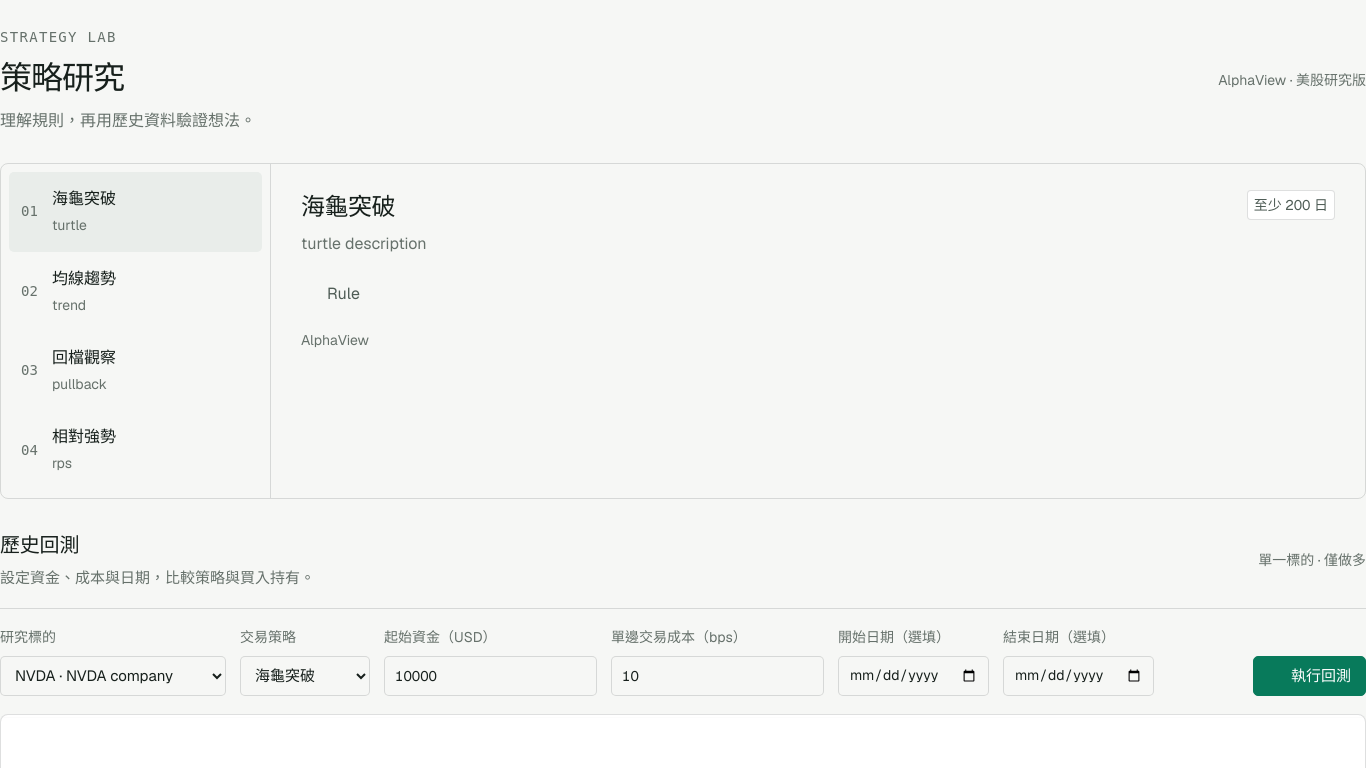
Test: backtest parameters and diagnostics › blocks invalid capital, costs and reversed dates
Step 1. Replace the text in the number field labelled "起始資金（USD）" with "0" → (490, 676), box [384, 656, 597, 696]
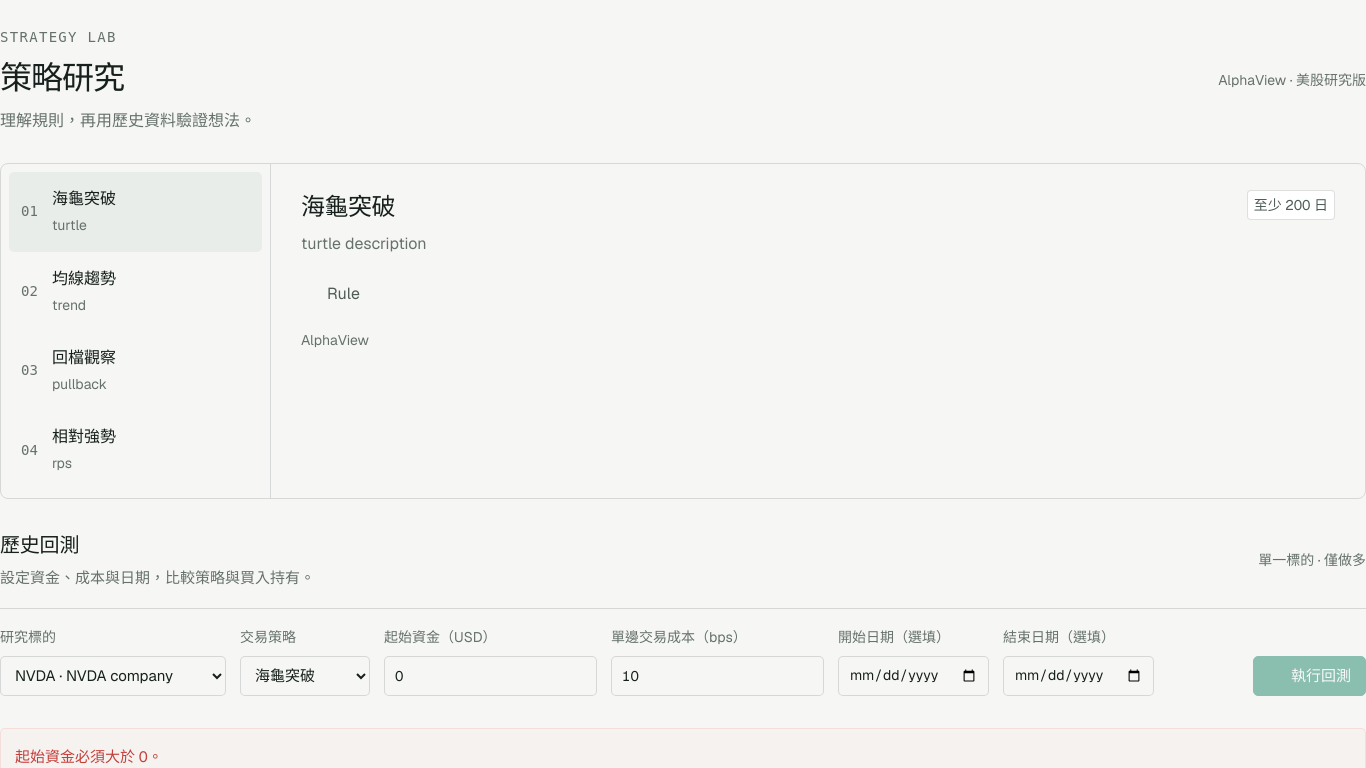
Expected: the message reads "起始資金必須大於 0。", [15, 747, 163, 766]
Step 2. Replace the text in the number field labelled "起始資金（USD）" with "10000" → (490, 676), box [384, 656, 597, 696]
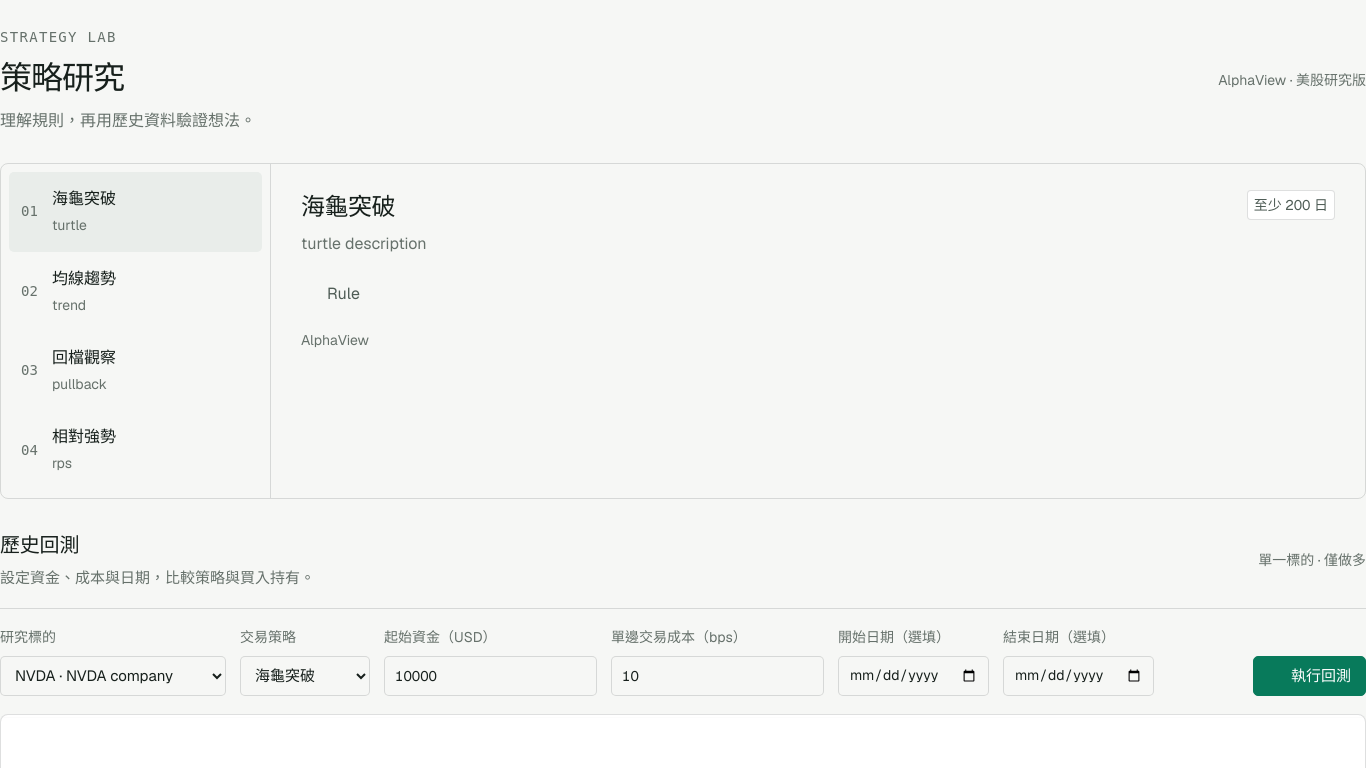
Step 3. Replace the text in the number field labelled "單邊交易成本（bps）" with "101" → (718, 676), box [611, 656, 824, 696]
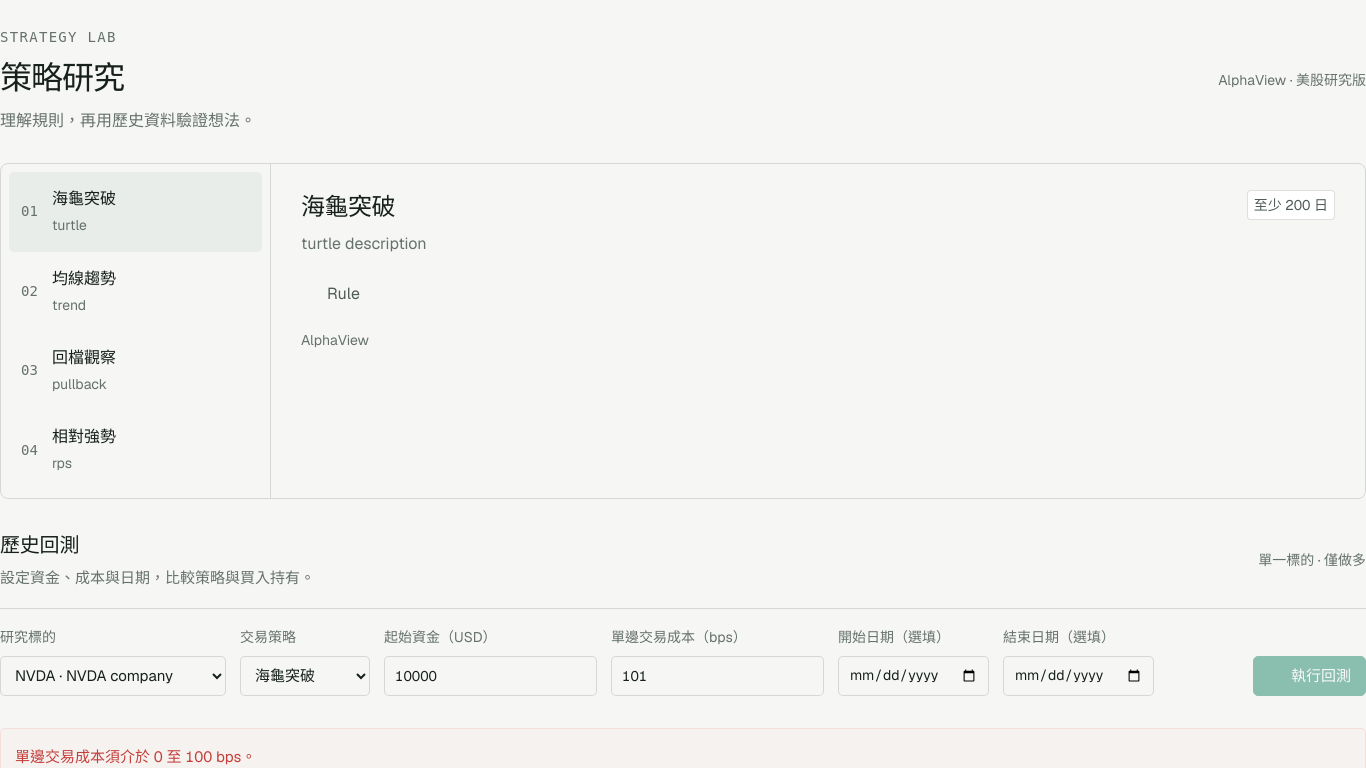
Expected: the message reads "單邊交易成本須介於 0 至 100 bps。", [15, 747, 256, 766]
Step 4. Replace the text in the number field labelled "單邊交易成本（bps）" with "10" → (718, 676), box [611, 656, 824, 696]
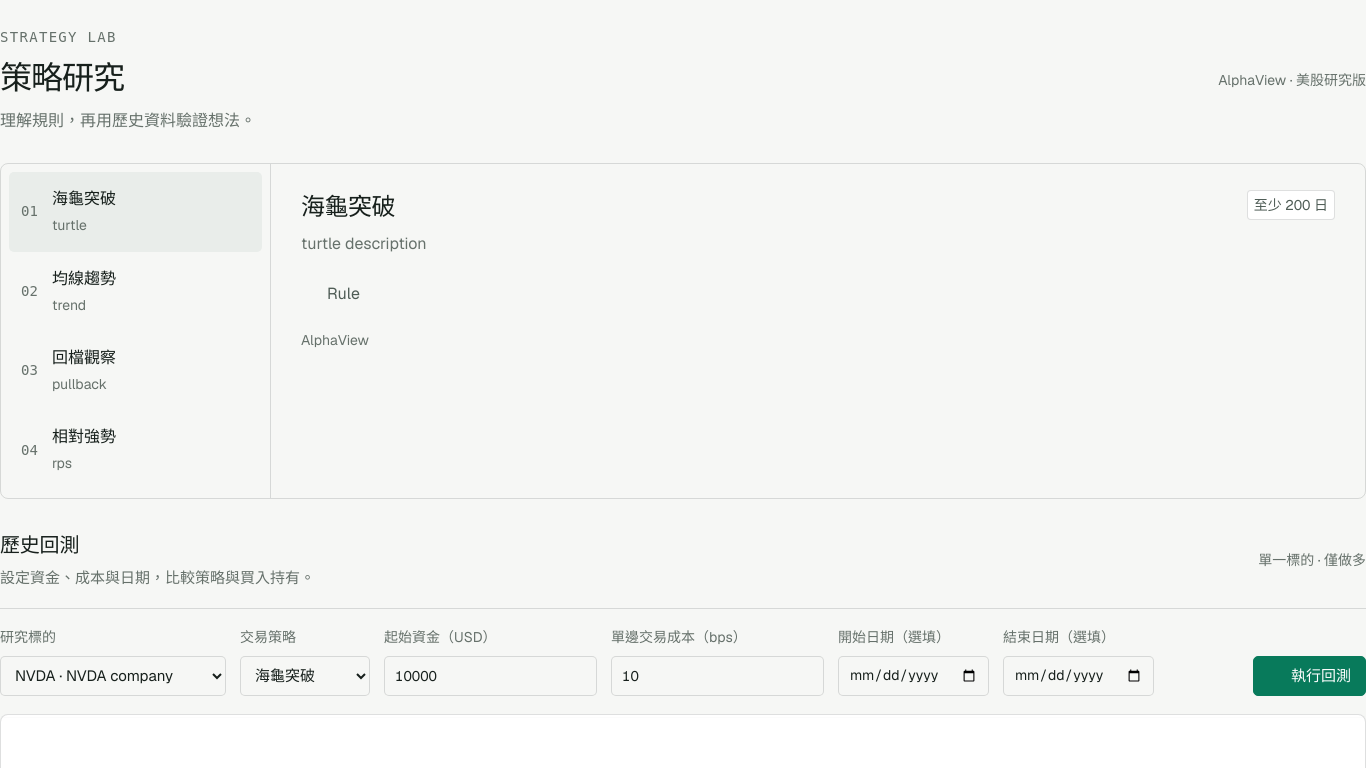
Step 5. Type "2026-09-05" into the date field labelled "開始日期（選填）" → (914, 676), box [838, 656, 989, 696]
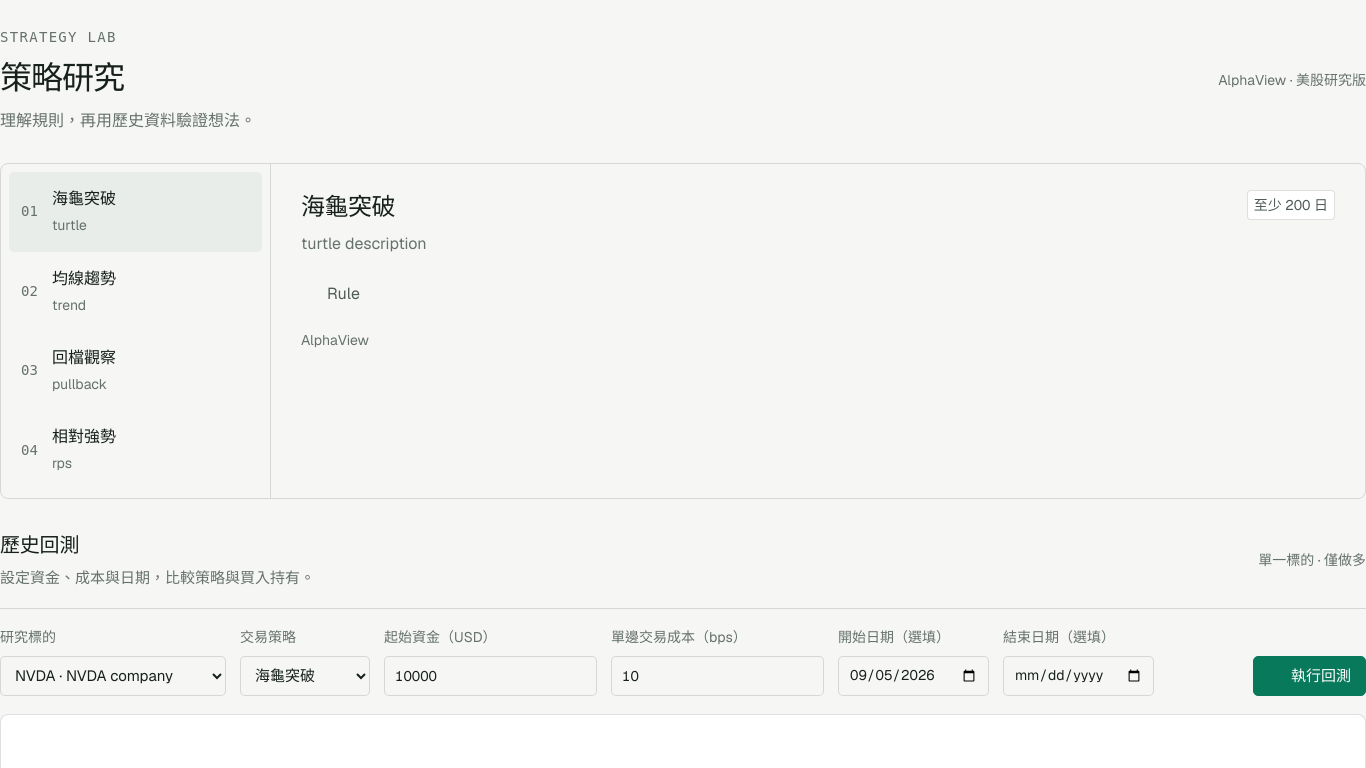
Step 6. Type "2025-09-05" into the date field labelled "結束日期（選填）" → (1078, 676), box [1003, 656, 1154, 696]
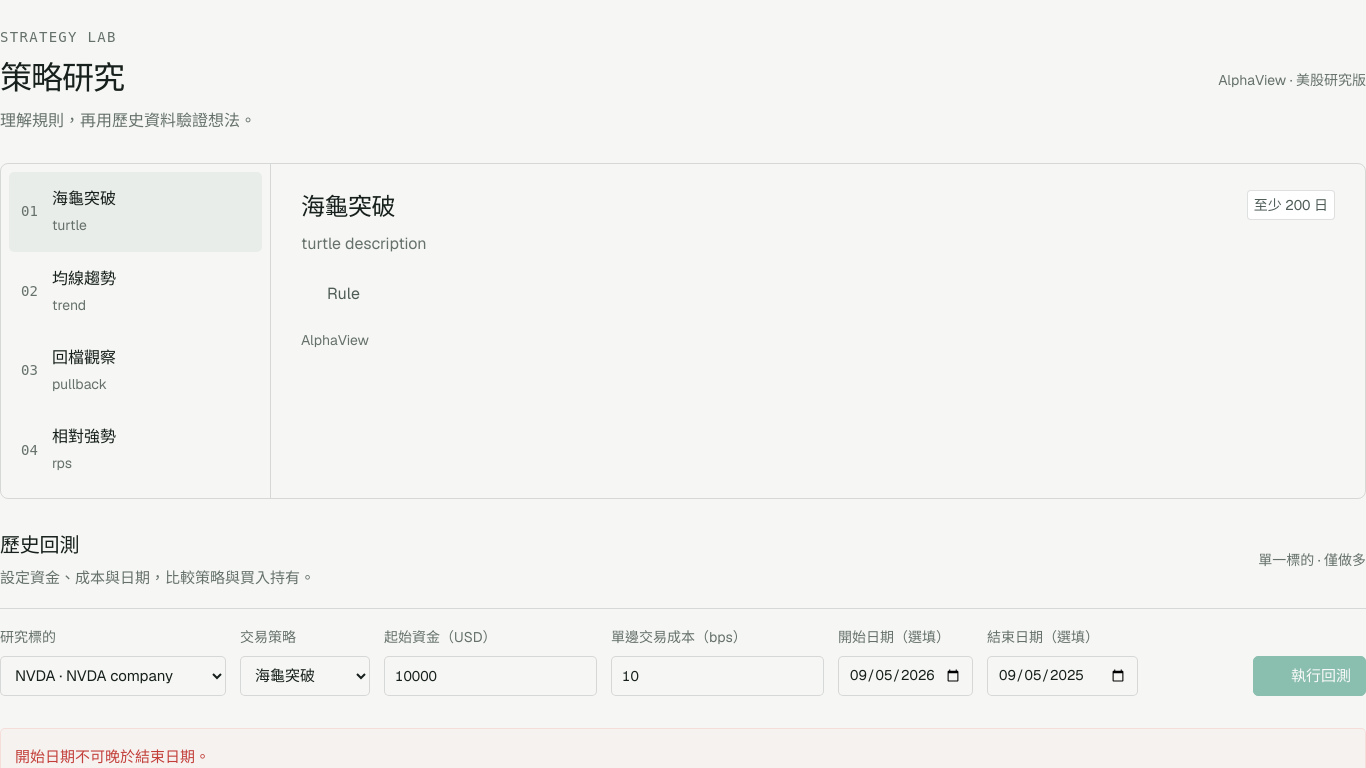
Expected: the message reads "開始日期不可晚於結束日期。", [15, 747, 210, 766]
Expected: the button "執行回測" is disabled, [1253, 656, 1365, 696]
